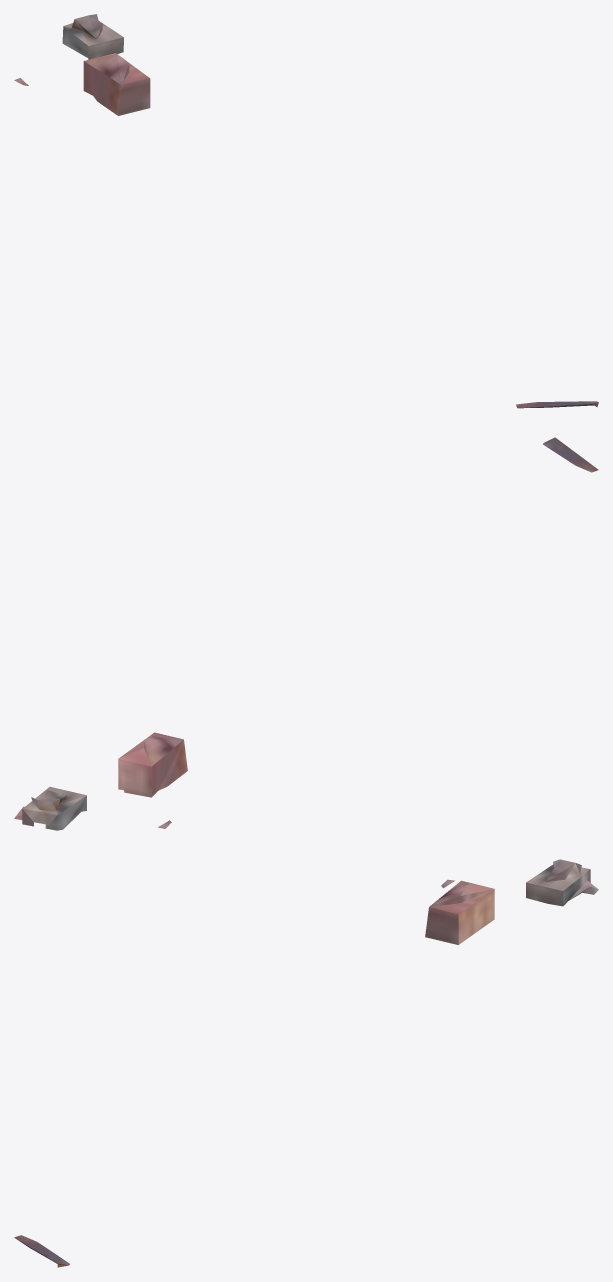
3 renders of one model, top to bottom at view 1: azimuth 30°, elevation 25°; view 2: azimuth 150°, elevation 25°; view 3: azimuth 330°, elevation 25°, orthographic. The views are drawn at different scales.
Visible parts, largest first — view 1: Mesh_0; view 2: Mesh_0; view 3: Mesh_0.
Boxes of the visible parts, x1,y1,x2,y2 form: Mesh_0: (14, 14, 598, 408); Mesh_0: (14, 437, 598, 830); Mesh_0: (14, 859, 598, 1267).
Size of the model in its own units: 84.57 by 27.39 by 615.
Materials: 1 (1 with a texture image).
